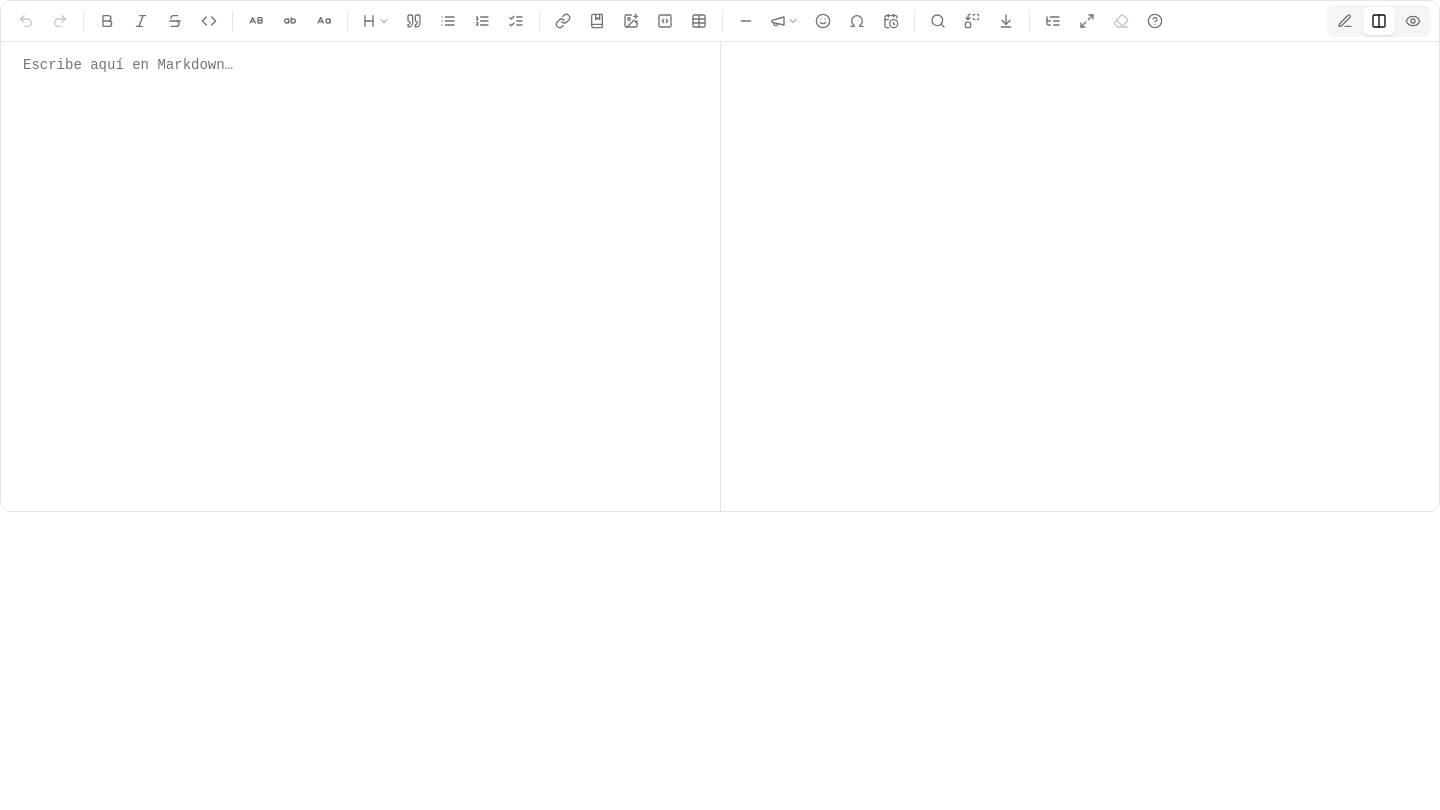
Test: lists every HTML entity with its name and code
This screenshot has width=1440, height=810.
Click the button named "Símbolos": [857, 21] box [841, 5, 873, 37]
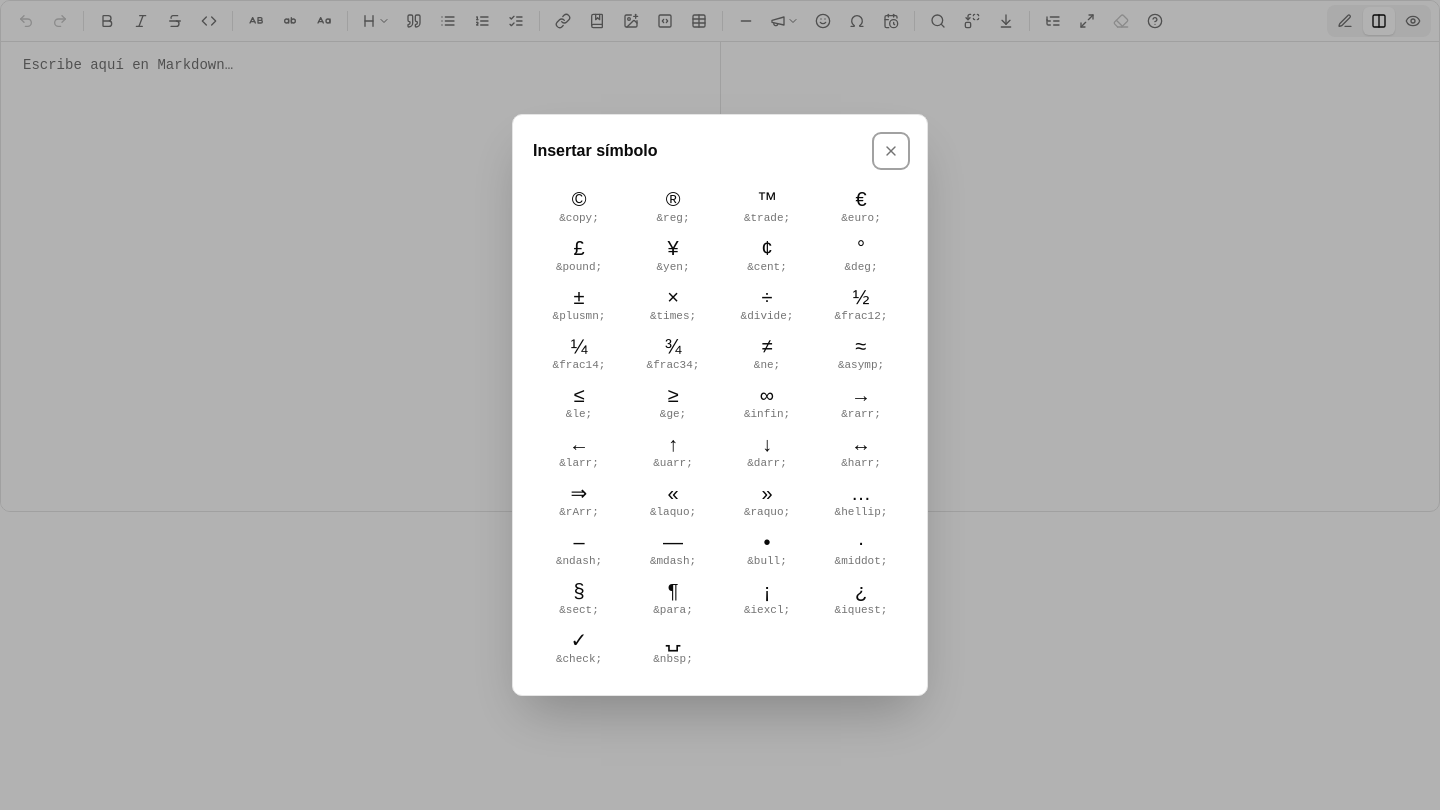
Check: the number of buttons "© &copy;" is 38
Check: the button with aria-label "Copyright (&copy;)" is shown, box [533, 183, 625, 230]
